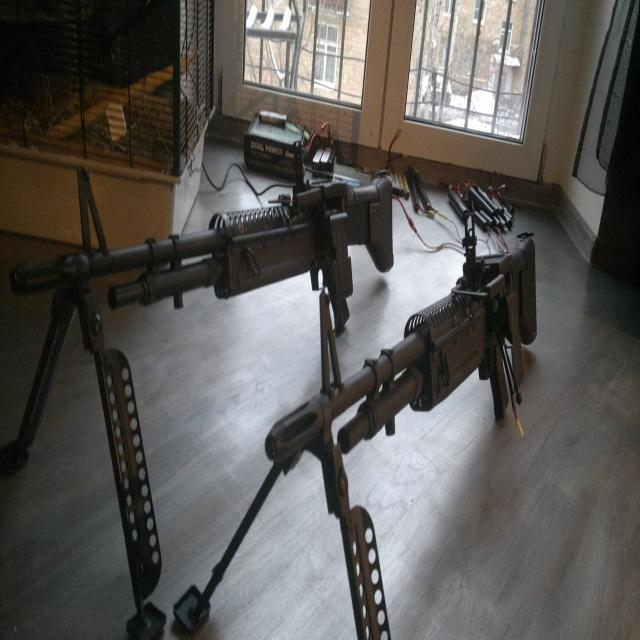firearm: (10, 156, 394, 339), (265, 226, 537, 465)
grenade: (413, 166, 443, 212), (479, 181, 507, 216), (448, 185, 470, 224), (474, 210, 494, 237), (499, 197, 516, 223)
